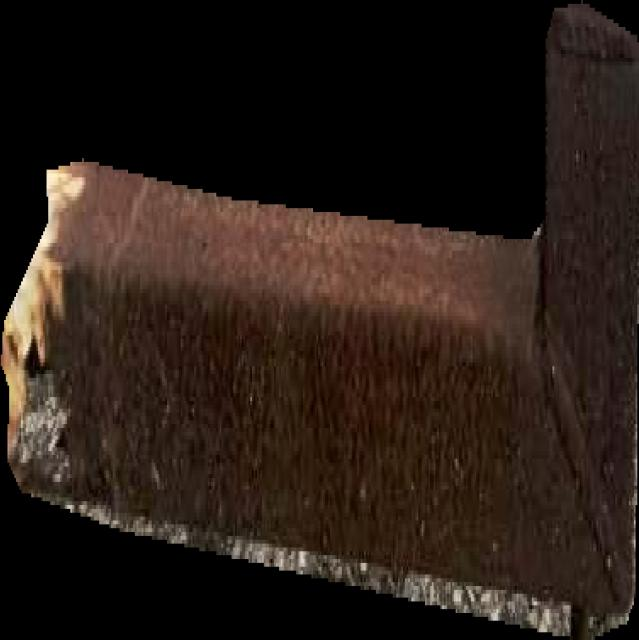Uniform Corrosion: (1, 0, 639, 640)
